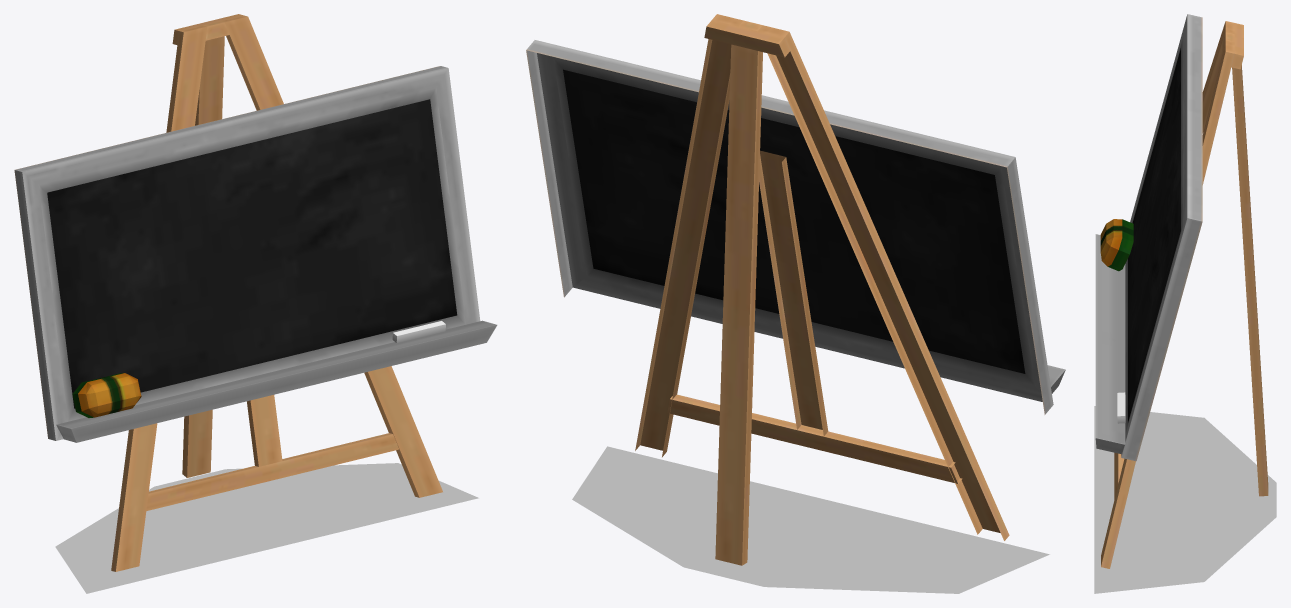
Rendered from kokuban.obj.
3 renders of one model, left to right at view 1: azimuth 30°, elevation 25°; view 2: azimuth 150°, elevation 25°; view 3: azimuth 270°, elevation 25°, orthographic. The views are drawn at different scales.
Visible parts, largest first — view 1: polySurface3.001_polySurface3.001_kokuban.png, polySurface3.001_polySurface3.001_shadow1.png.070; view 2: polySurface3.001_polySurface3.001_kokuban.png, polySurface3.001_polySurface3.001_shadow1.png.070; view 3: polySurface3.001_polySurface3.001_kokuban.png, polySurface3.001_polySurface3.001_shadow1.png.070.
Boxes of the visible parts, x1,y1,x2,y2 form: polySurface3.001_polySurface3.001_kokuban.png: (14, 14, 497, 571); polySurface3.001_polySurface3.001_shadow1.png.070: (55, 463, 478, 593); polySurface3.001_polySurface3.001_kokuban.png: (526, 14, 1065, 565); polySurface3.001_polySurface3.001_shadow1.png.070: (572, 446, 1049, 593); polySurface3.001_polySurface3.001_kokuban.png: (1095, 14, 1268, 568); polySurface3.001_polySurface3.001_shadow1.png.070: (1094, 406, 1276, 593).
Bounding box in the file's own units: 2.24 × 2.36 × 0.8421.
